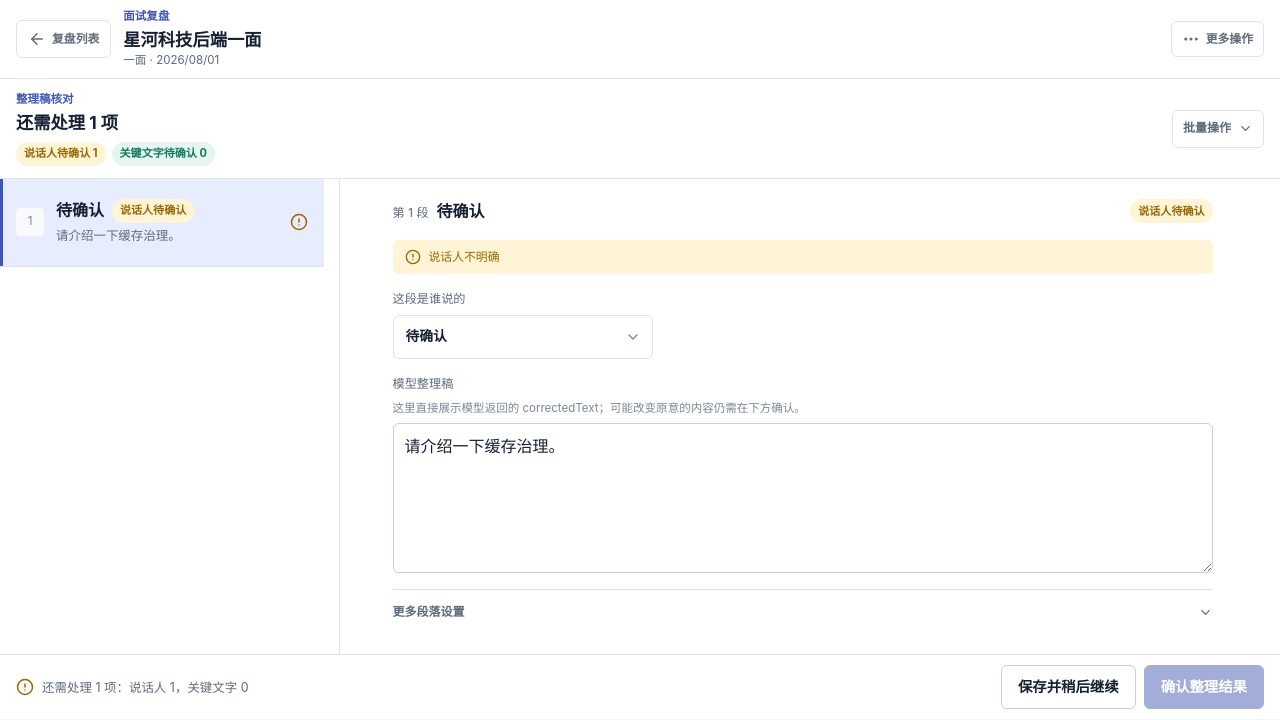
Test: InterviewRetrospectivePage › restores cleanup progress from the URL and refreshes after a version conflict
Expected: the heading "还需处理 1 项" is shown, x1=16 y1=112 x2=118 y2=133
Select "我" in the dropdown named "第 1 段说话人": (522,337) x1=392 y1=315 x2=652 y2=359
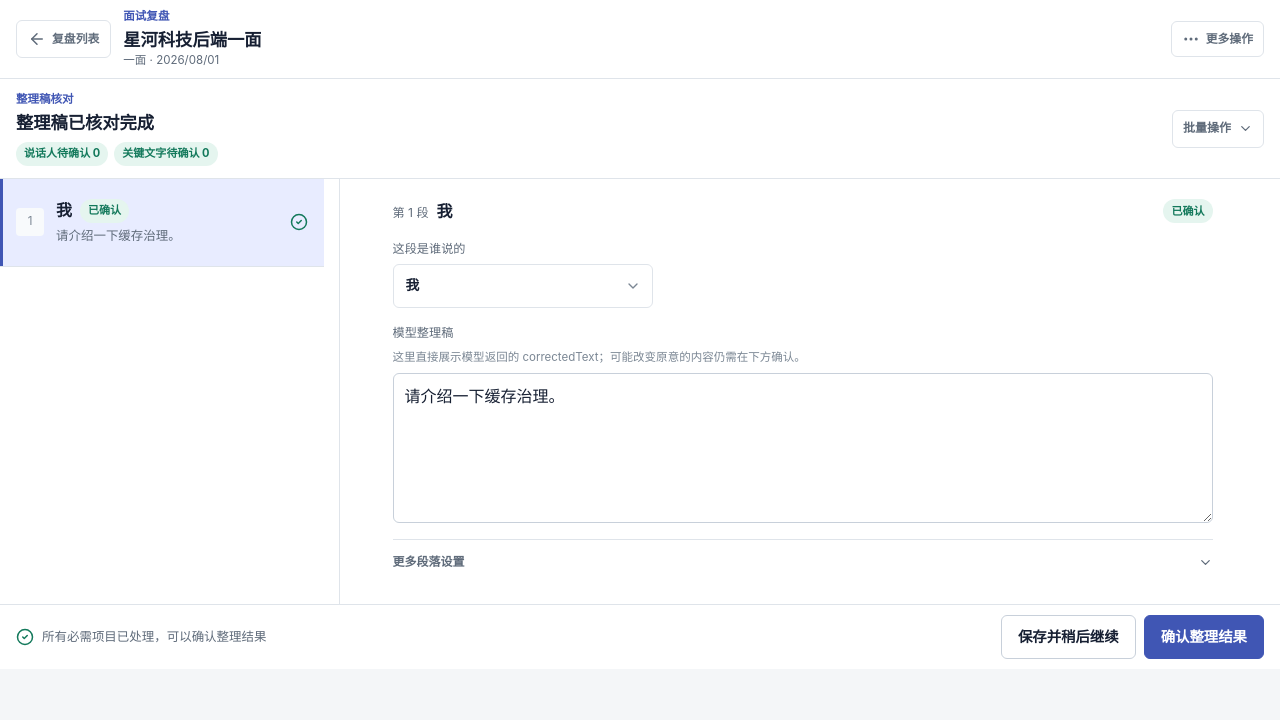
Click the button "保存并稍后继续": (1068,637) x1=1001 y1=615 x2=1136 y2=659
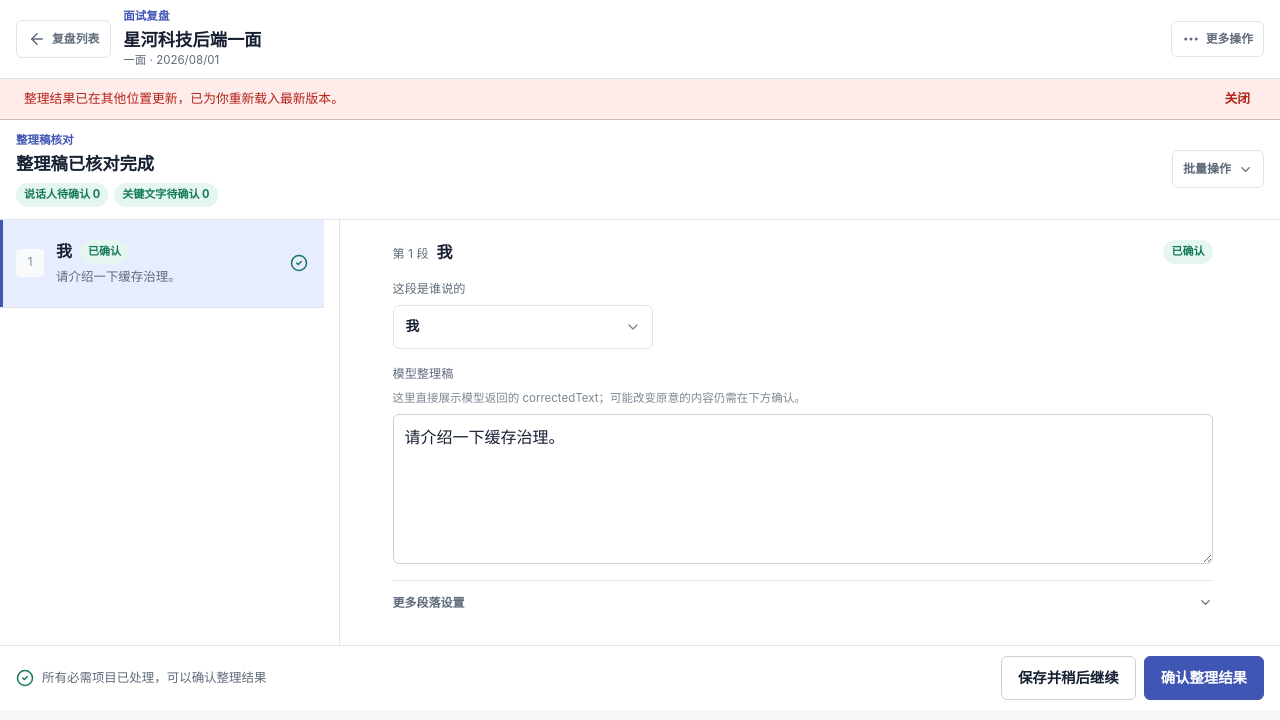
Expected: the message shows "已为你重新载入最新版本", x1=24 y1=91 x2=344 y2=106
